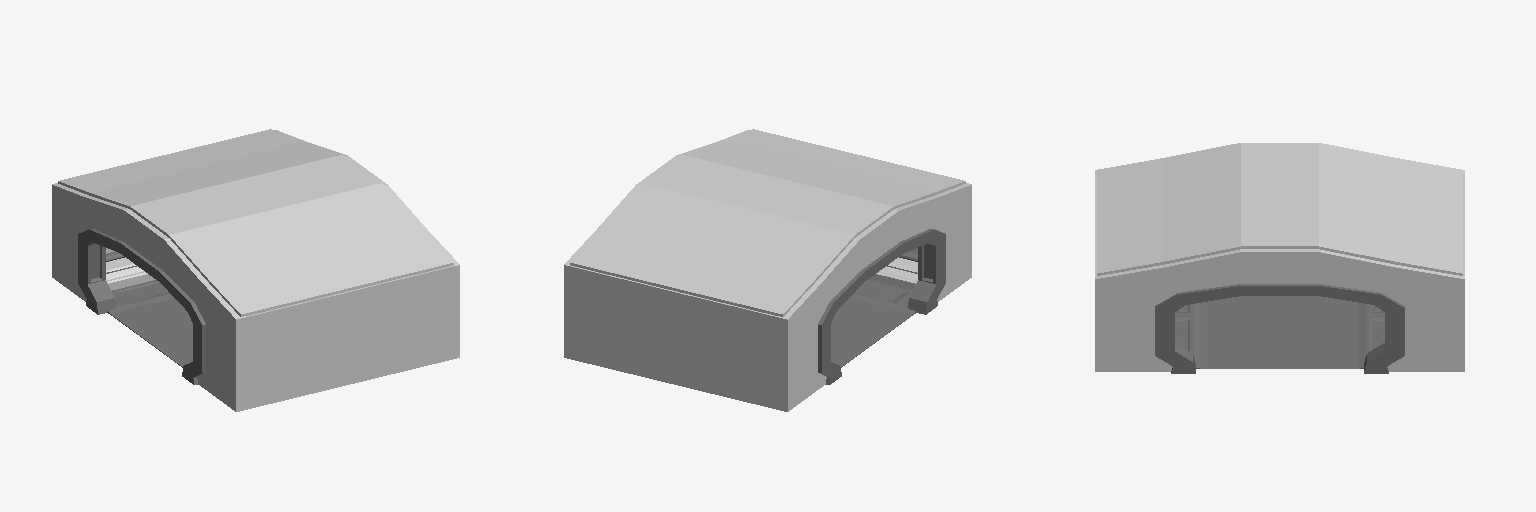
File: pasillo2.obj
3 renders of one model, left to right at view 1: azimuth 30°, elevation 25°; view 2: azimuth 150°, elevation 25°; view 3: azimuth 270°, elevation 25°, orthographic.
Visible parts, largest first — view 1: pasillo2:PasilloX20 pasillo2:polySurface512 pasillo2:polySurface; view 2: pasillo2:PasilloX20 pasillo2:polySurface512 pasillo2:polySurface; view 3: pasillo2:PasilloX20 pasillo2:polySurface512 pasillo2:polySurface.
Boxes of the visible parts, box(x1,y1,x2,y2) form: pasillo2:PasilloX20 pasillo2:polySurface512 pasillo2:polySurface: box(52, 129, 459, 411); pasillo2:PasilloX20 pasillo2:polySurface512 pasillo2:polySurface: box(564, 129, 971, 411); pasillo2:PasilloX20 pasillo2:polySurface512 pasillo2:polySurface: box(1095, 143, 1464, 373).
Size of the model in its own units: 435 by 220 by 600.